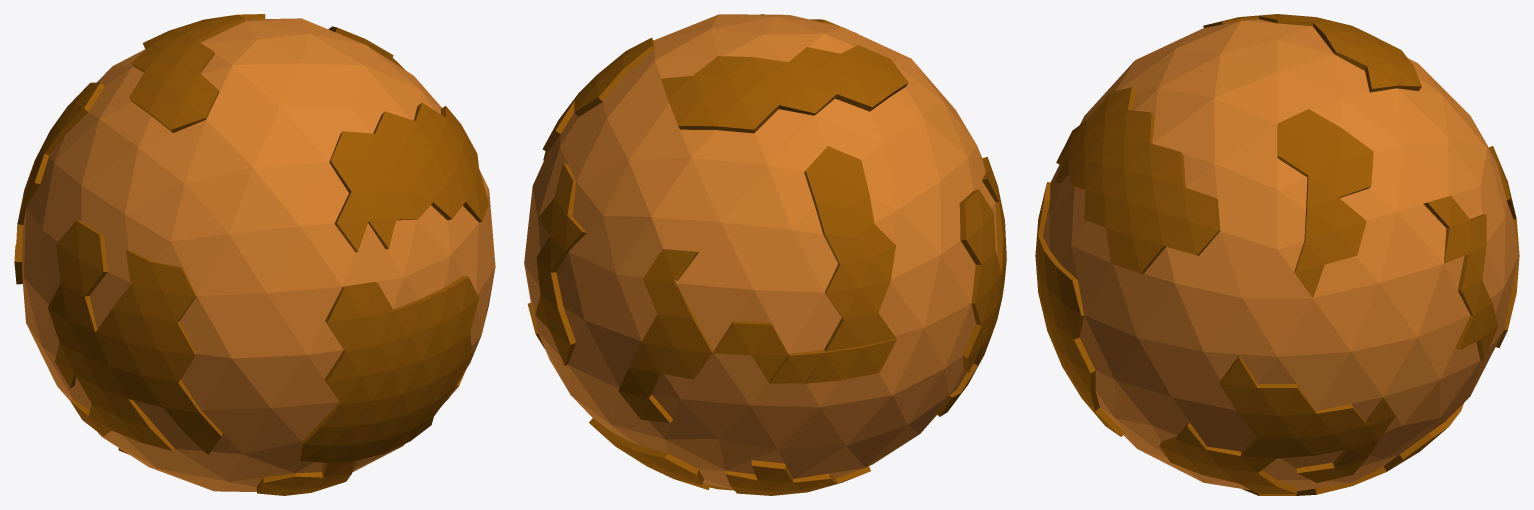
File: Mercury.fbx
3 renders of one model, left to right at view 1: azimuth 30°, elevation 25°; view 2: azimuth 150°, elevation 25°; view 3: azimuth 270°, elevation 25°, orthographic.
Visible parts, largest first — view 1: Icosphere.001, Icosphere; view 2: Icosphere.001, Icosphere; view 3: Icosphere.001, Icosphere.
Part boxes in pixels (bbox=[...]): Icosphere.001: bbox=[22, 18, 495, 491]; Icosphere: bbox=[14, 14, 488, 495]; Icosphere.001: bbox=[524, 14, 997, 489]; Icosphere: bbox=[527, 14, 1006, 495]; Icosphere.001: bbox=[1043, 19, 1518, 494]; Icosphere: bbox=[1035, 14, 1519, 495].
Size of the model in its own units: 241 by 241 by 243.
